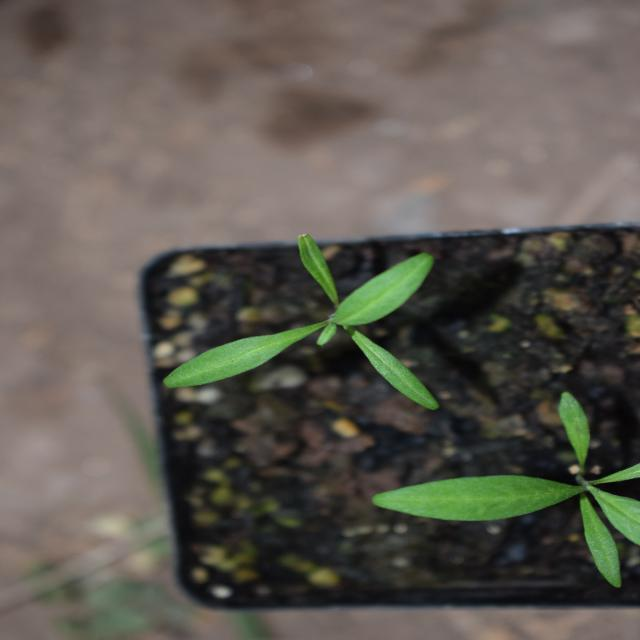white_smart_weed: (205, 148, 385, 464)
